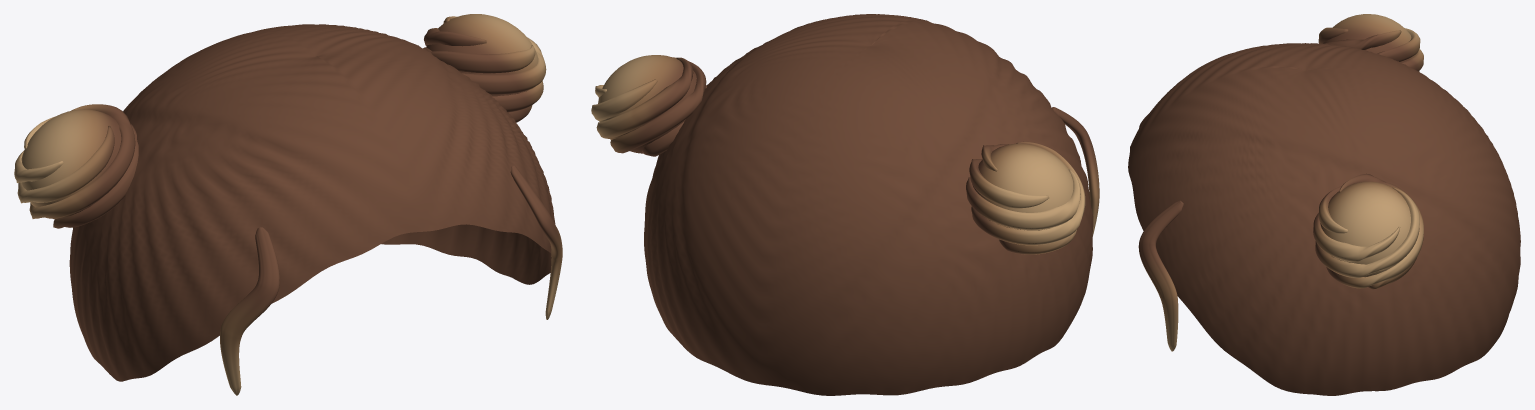
The model's file is Feminine-space-buns-ombre-scarf-hair.glb.
3 renders of one model, left to right at view 1: azimuth 30°, elevation 25°; view 2: azimuth 150°, elevation 25°; view 3: azimuth 270°, elevation 25°, orthographic. The views are drawn at different scales.
Parts seen in each view (by area): view 1: 226 hair / Hair / chestnut226; view 2: 226 hair / Hair / chestnut226; view 3: 226 hair / Hair / chestnut226.
Part boxes in pixels (x1,y1,x2,y2): 226 hair / Hair / chestnut226: [14, 14, 562, 395]; 226 hair / Hair / chestnut226: [591, 14, 1099, 395]; 226 hair / Hair / chestnut226: [1128, 14, 1520, 395].
Bounding box in the file's own units: 0.977 × 0.518 × 0.7287.
Materials: 1 (1 with a texture image).
